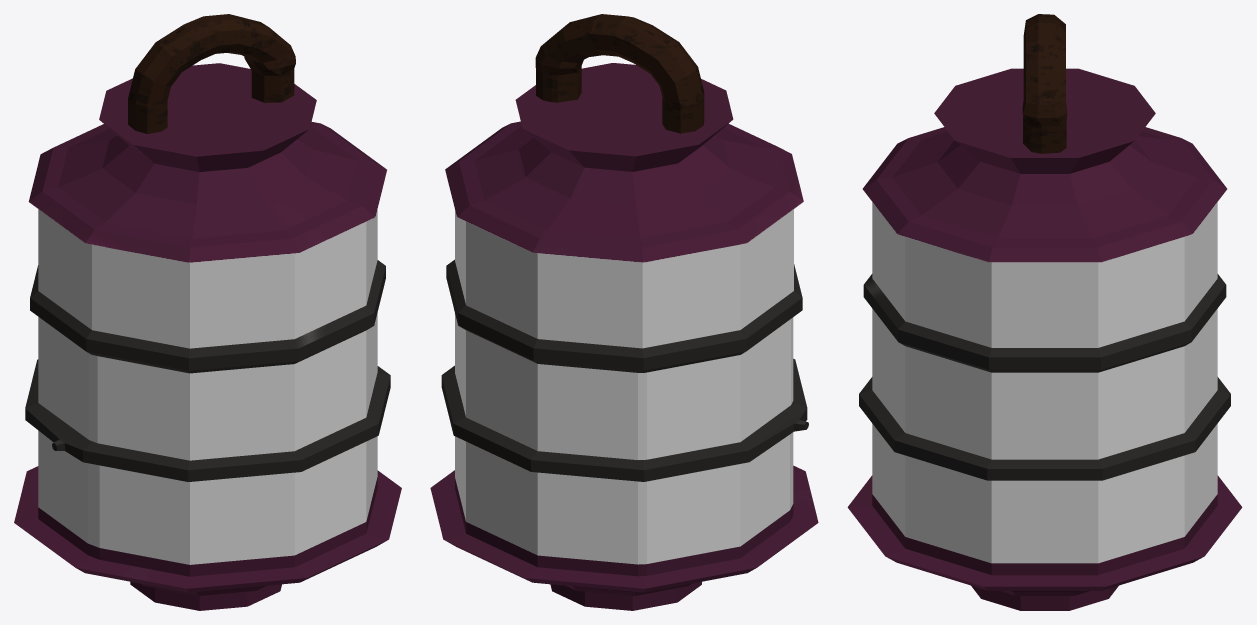
File: lamp.glb
The picture shows the model from 3 angles, left to right: view 1: azimuth 30°, elevation 25°; view 2: azimuth 150°, elevation 25°; view 3: azimuth 270°, elevation 25°; orthographic projection.
Visible parts, largest first — view 1: Cylinder; view 2: Cylinder; view 3: Cylinder.
Part boxes in pixels (x1,y1,x2,y2): Cylinder: (14,14,401,610); Cylinder: (430,14,818,610); Cylinder: (847,14,1242,610).
Size of the model in its own units: 3.61 by 5.82 by 3.74.
Materials: 4 (3 with a texture image).
